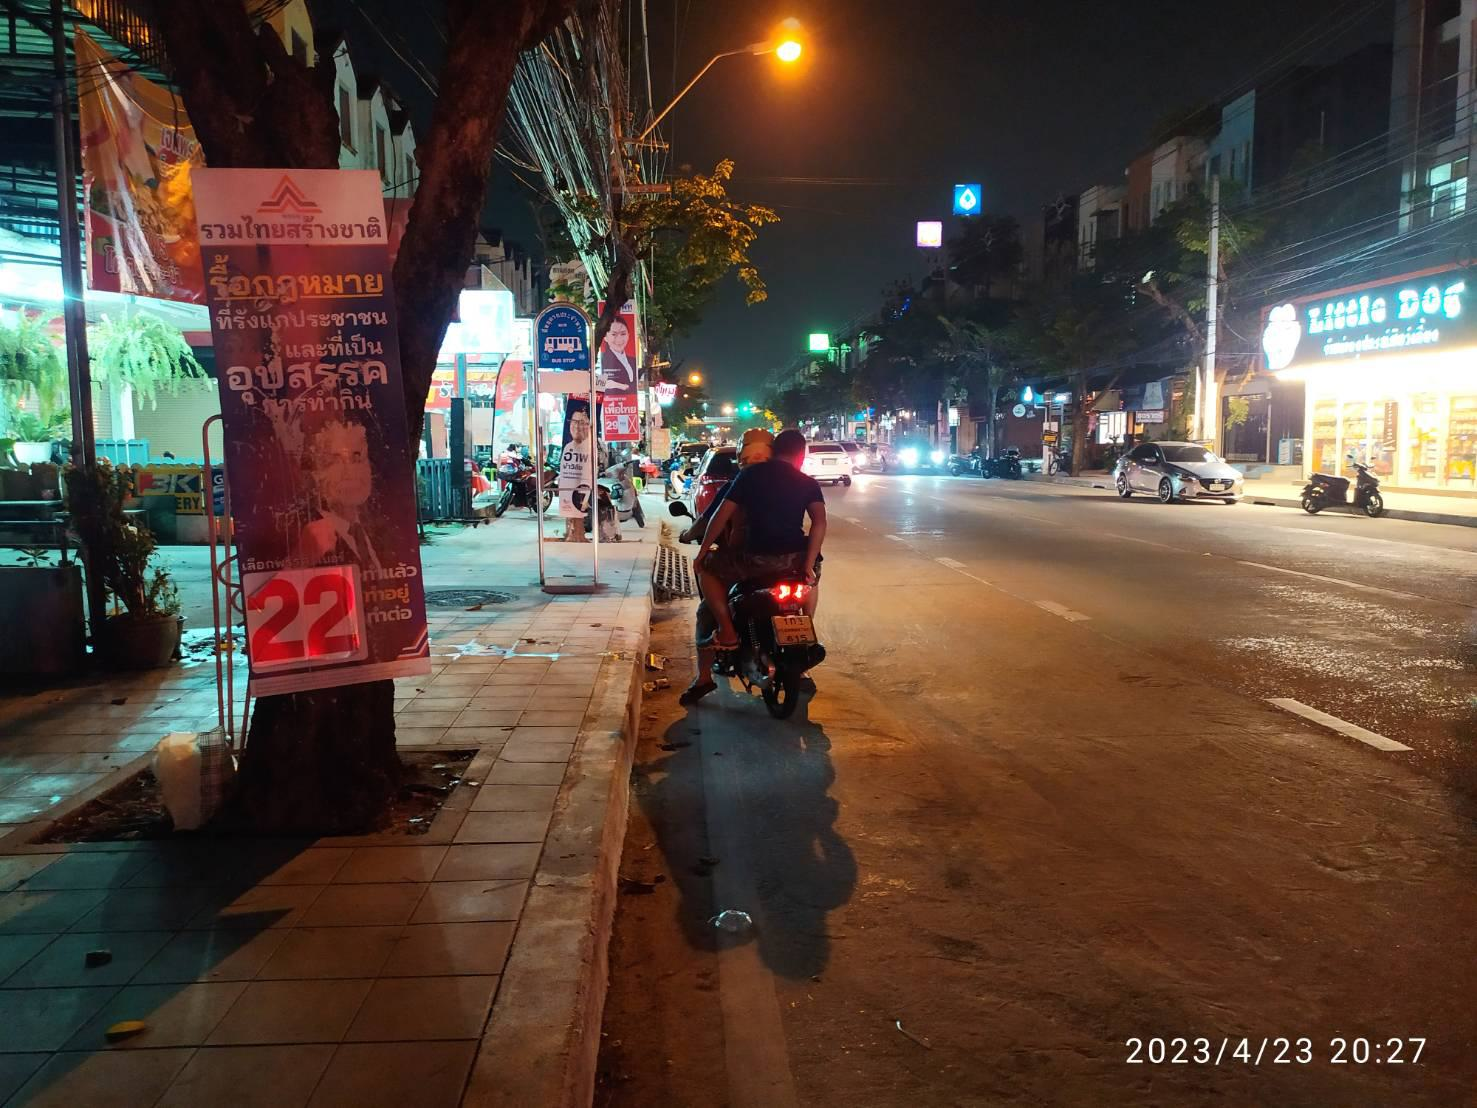Banner: (189, 166, 432, 696), (595, 303, 641, 442), (551, 402, 595, 514)
